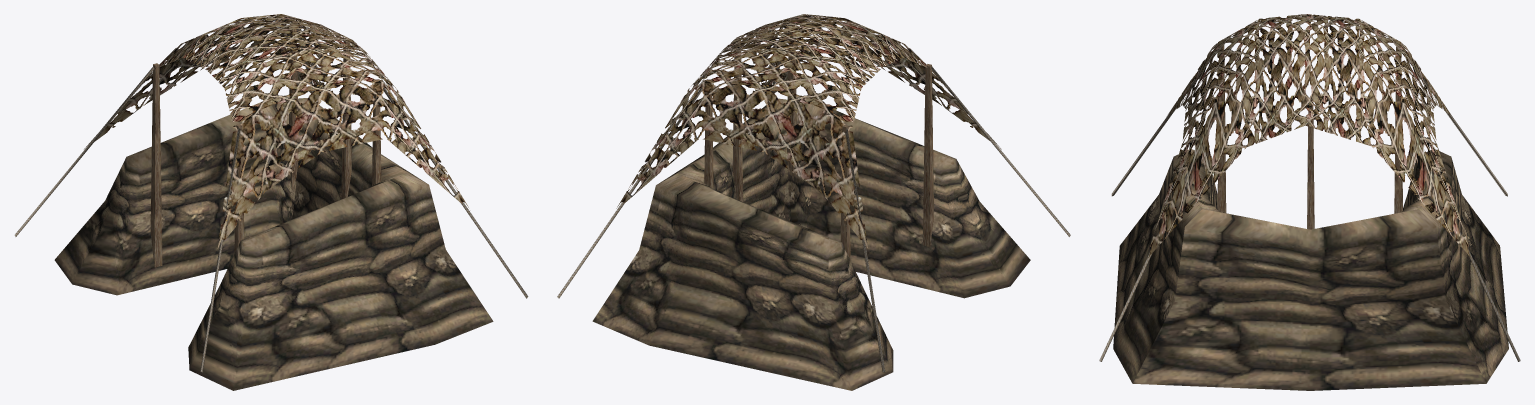
File: bnkr04.glb
3 views of the same model, side by side, from view 1: azimuth 30°, elevation 25°; view 2: azimuth 150°, elevation 25°; view 3: azimuth 270°, elevation 25° (orthographic). The views are drawn at different scales.
Parts seen in each view (by area): view 1: _bnkr04; view 2: _bnkr04; view 3: _bnkr04.
Boxes of the visible parts, box(x1,y1,x2,y2) form: _bnkr04: box(14, 14, 528, 390); _bnkr04: box(557, 14, 1070, 390); _bnkr04: box(1099, 14, 1520, 390).
Bounding box in the file's own units: 3.93 × 3.11 × 4.19.
Materials: 2 (2 with a texture image).
